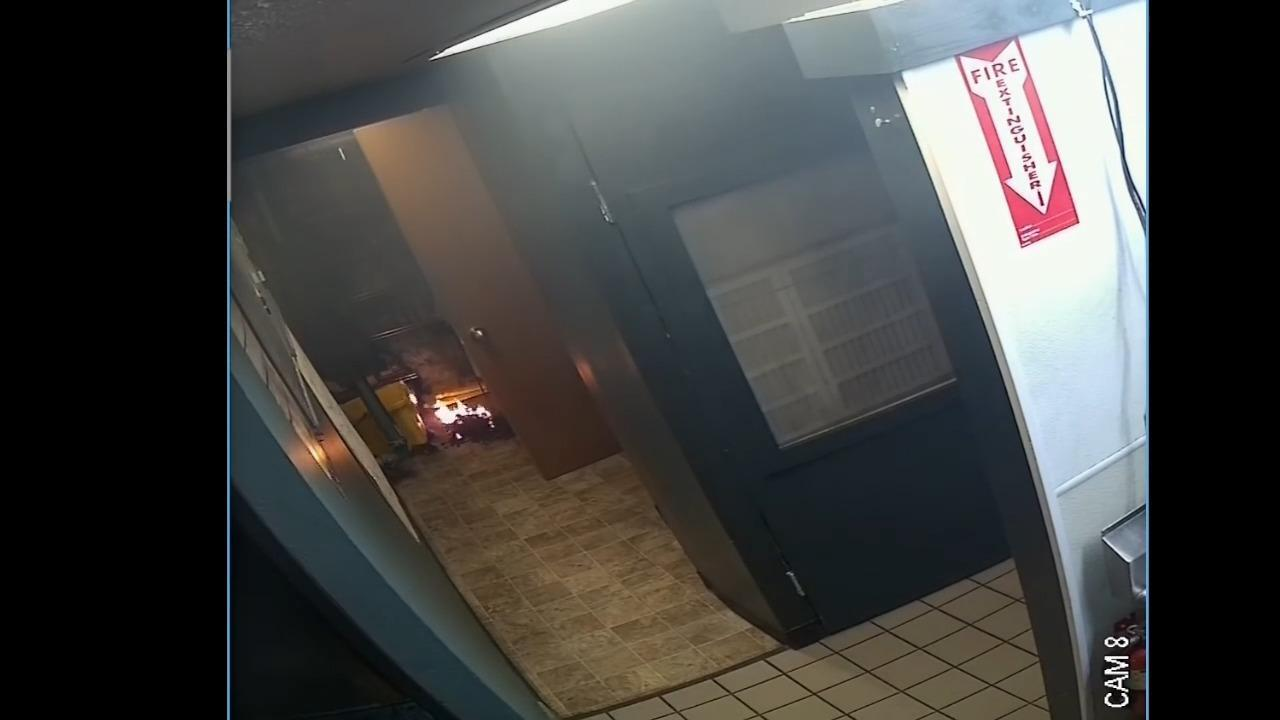fire: (434, 397, 492, 424)
